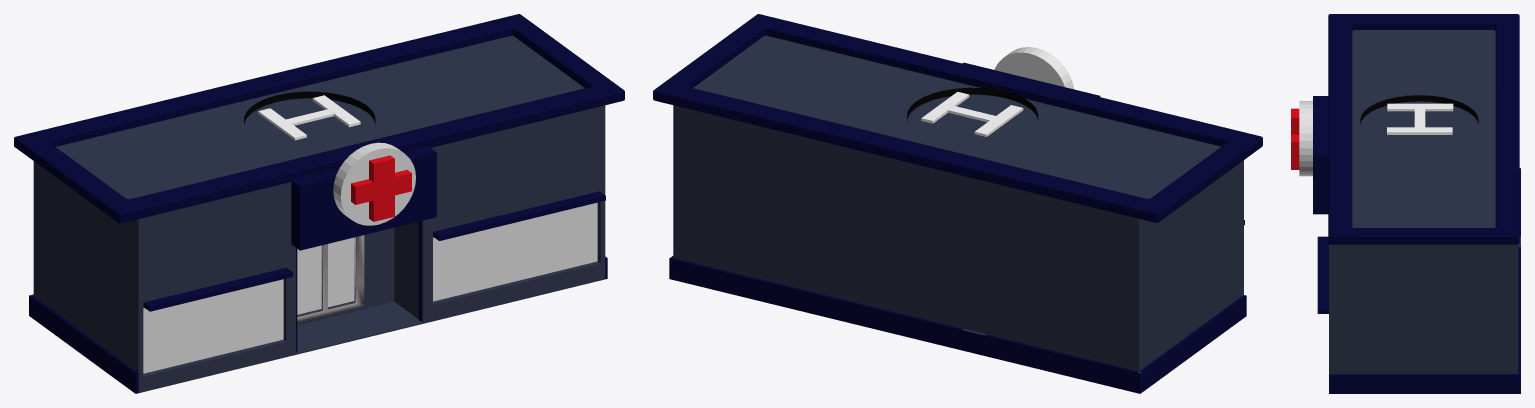
Rendered from Hopital2.fbx.
The picture shows the model from 3 angles, left to right: view 1: azimuth 30°, elevation 25°; view 2: azimuth 150°, elevation 25°; view 3: azimuth 270°, elevation 25°; orthographic projection. The views are drawn at different scales.
Parts seen in each view (by area): view 1: BUil, Roof1, win2, ทรงกระบอก.002, H, LOGO; view 2: BUil, Roof1, H, ทรงกระบอก.002; view 3: BUil, Roof1, H, ทรงกระบอก.002, win2, LOGO.
Part boxes in pixels (x1,y1,x2,y2): BUil: (29, 35, 607, 393); Roof1: (14, 14, 624, 223); win2: (143, 191, 605, 352); ทรงกระบอก.002: (333, 142, 415, 225); H: (244, 91, 375, 140); LOGO: (351, 155, 411, 221); BUil: (669, 35, 1246, 393); Roof1: (653, 14, 1262, 222); H: (907, 87, 1038, 136); ทรงกระบอก.002: (994, 47, 1073, 89); BUil: (1313, 30, 1520, 393); Roof1: (1328, 14, 1519, 244); H: (1360, 95, 1478, 134); ทรงกระบอก.002: (1299, 101, 1312, 176); win2: (1317, 236, 1328, 313); LOGO: (1291, 108, 1299, 169).
Size of the model in its own units: 1896 by 721 by 828.
